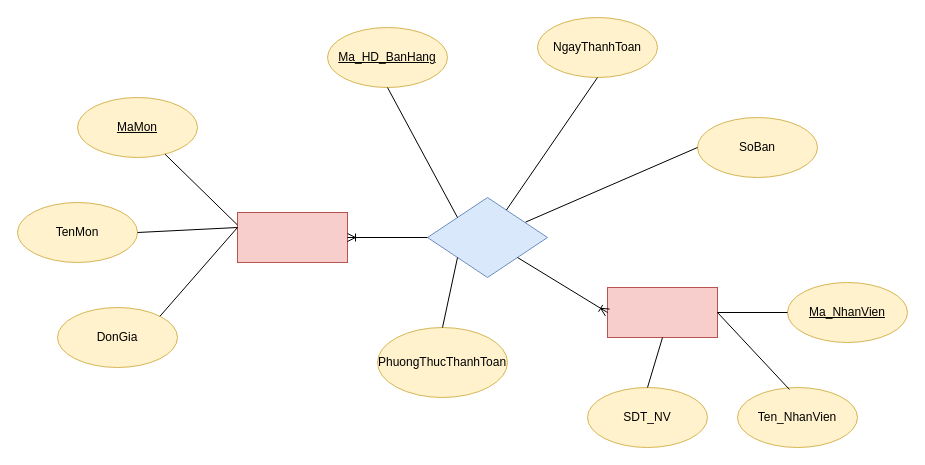
Some shapes in this 925 by 465 pixel diagram are drawn without their labels. The centre of each missing label's shape, as x and y in pixels:
BÁN: [487,237]
Món Nước: [292,237]
NhanVien: [662,312]
